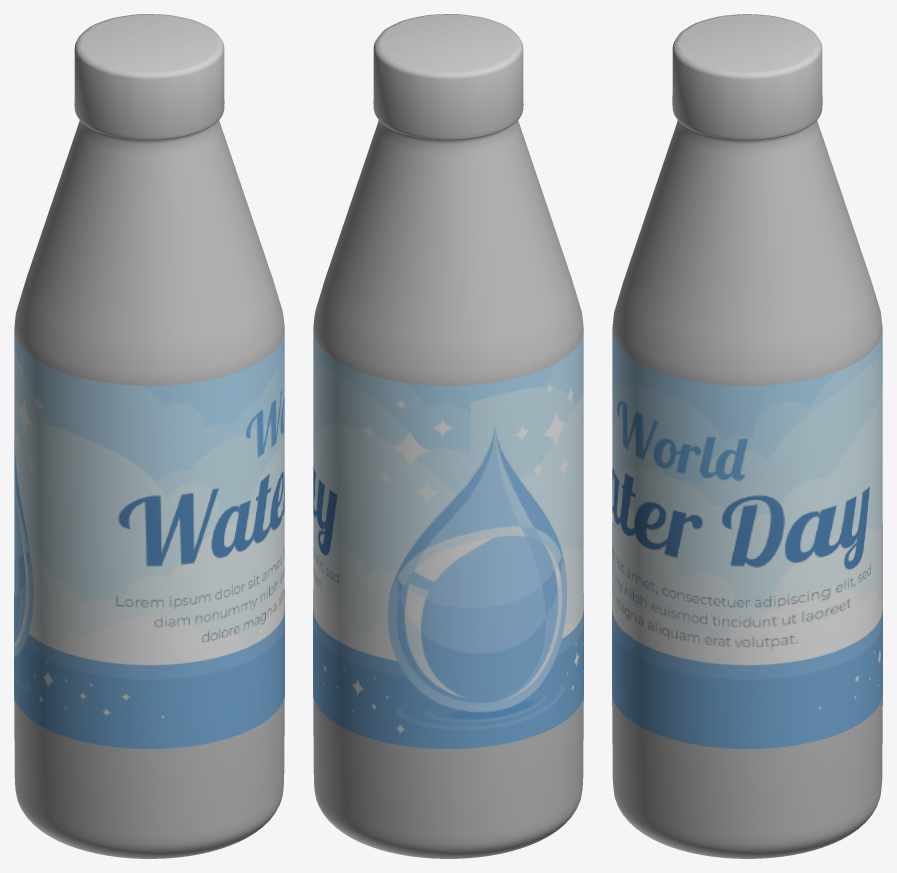
The model's file is WaterBottle.fbx.
The picture shows the model from 3 angles, left to right: view 1: azimuth 30°, elevation 25°; view 2: azimuth 150°, elevation 25°; view 3: azimuth 270°, elevation 25°; orthographic projection.
Parts seen in each view (by area): view 1: Water Bottle; view 2: Water Bottle; view 3: Water Bottle.
Part boxes in pixels (box(x1,y1,x2,y2)): Water Bottle: box(14, 14, 284, 858); Water Bottle: box(313, 14, 583, 858); Water Bottle: box(612, 14, 882, 858).
Size of the model in its own units: 19.49 by 61.07 by 19.49.
